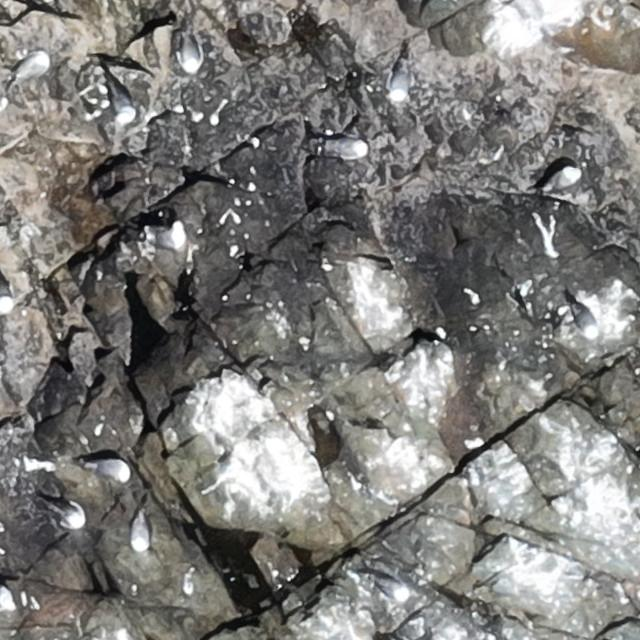umineko: (104, 72, 134, 124), (145, 220, 190, 250), (363, 574, 407, 601), (570, 298, 599, 338), (16, 52, 47, 80), (180, 37, 200, 73), (92, 461, 128, 481), (546, 168, 576, 191), (329, 139, 366, 157), (57, 504, 84, 528), (130, 520, 150, 552), (392, 68, 408, 99)
